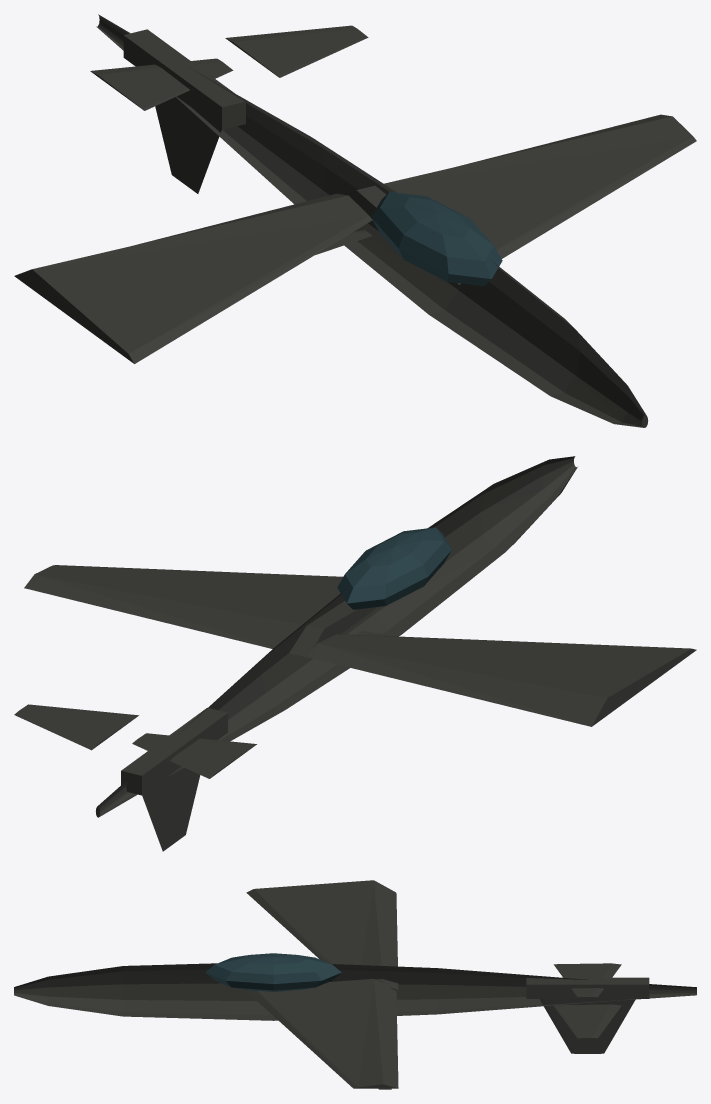
File: su24_Destroyed.glb
3 views of the same model, one above another, from view 1: azimuth 30°, elevation 25°; view 2: azimuth 150°, elevation 25°; view 3: azimuth 270°, elevation 25° (orthographic). The views are drawn at different scales.
Visible parts, largest first — view 1: Fuselage, Wing_L, Wing_R, Cockpit, TailBoom, Elevator_R, Rudder, Elevator_L; view 2: Wing_L, Fuselage, Wing_R, Cockpit, TailBoom, Elevator_R, Rudder, Elevator_L; view 3: Fuselage, Wing_R, Wing_L, Cockpit, TailBoom, Rudder, Elevator_R, Elevator_L.
Boxes of the visible parts, box(x1,y1,x2,y2) form: Fuselage: box(96, 14, 648, 427); Wing_L: box(14, 193, 372, 363); Wing_R: box(344, 114, 696, 284); Cockpit: box(371, 192, 502, 286); TailBoom: box(123, 29, 245, 129); Elevator_R: box(225, 25, 368, 77); Rudder: box(155, 97, 221, 193); Elevator_L: box(90, 58, 233, 110); Wing_L: box(307, 634, 696, 726); Fuselage: box(95, 456, 577, 817); Wing_R: box(24, 565, 377, 657); Cockpit: box(337, 527, 451, 609); TailBoom: box(121, 707, 227, 795); Elevator_R: box(14, 704, 138, 750); Rudder: box(142, 767, 200, 851); Elevator_L: box(132, 733, 256, 778); Fuselage: box(14, 963, 696, 1020); Wing_R: box(246, 979, 398, 1088); Wing_L: box(246, 880, 398, 989); Cockpit: box(205, 953, 341, 991); TailBoom: box(526, 977, 649, 998); Rudder: box(539, 999, 635, 1053); Elevator_R: box(554, 1004, 621, 1038); Elevator_L: box(553, 963, 621, 997).
Bounding box in the file's own units: 16.8 × 3.84 × 24.59.
